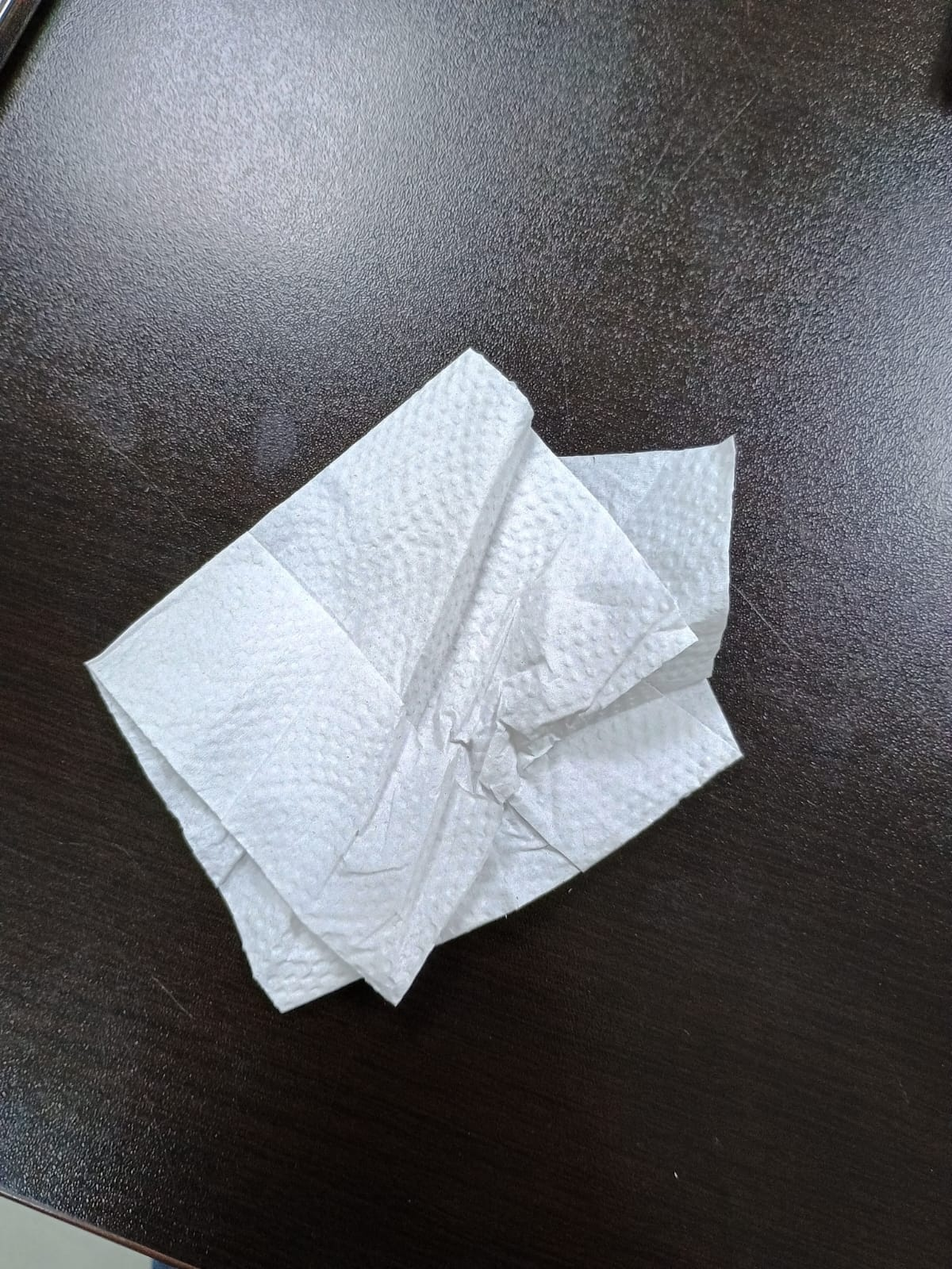Ordinario: (87, 350, 742, 1014)
